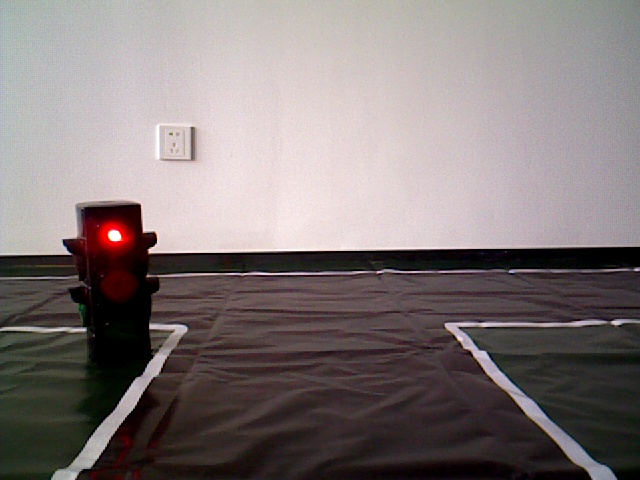red: (69, 205, 149, 351)
